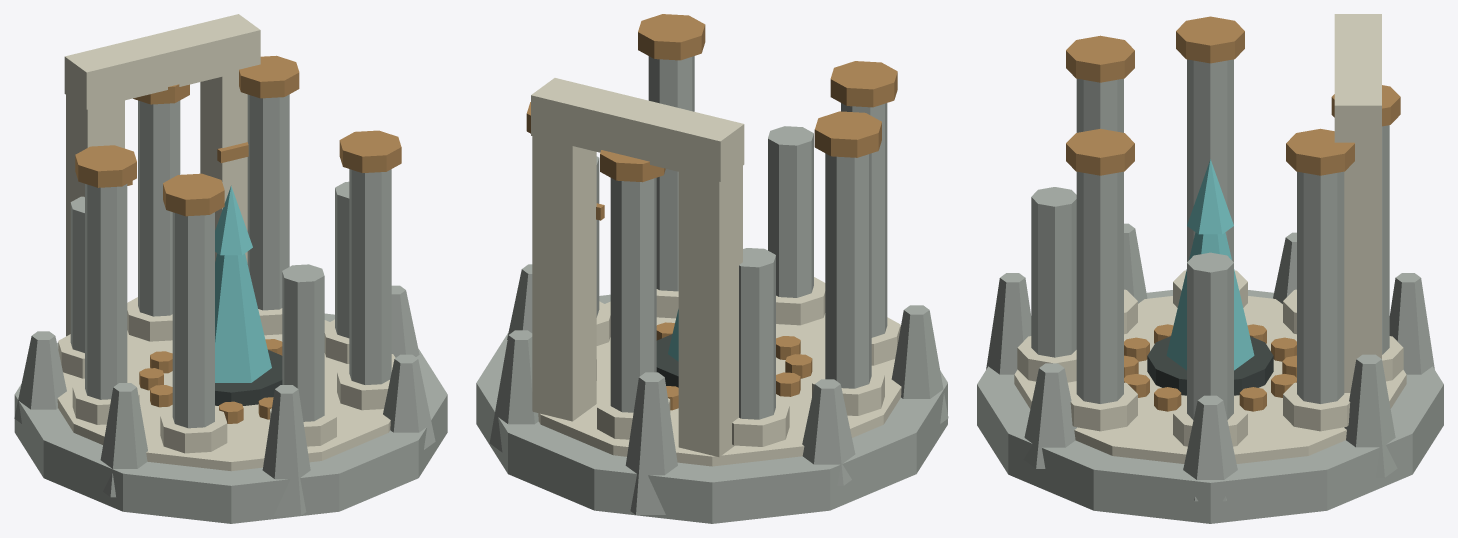
File: SM_ArchiveSanctumV6.fbx
The picture shows the model from 3 angles, left to right: view 1: azimuth 30°, elevation 25°; view 2: azimuth 150°, elevation 25°; view 3: azimuth 270°, elevation 25°; orthographic projection. The views are drawn at different scales.
Visible parts, largest first — view 1: SM_ArchiveSanctumV6; view 2: SM_ArchiveSanctumV6; view 3: SM_ArchiveSanctumV6.
Part boxes in pixels (x1,y1,x2,y2): SM_ArchiveSanctumV6: [14, 14, 447, 523]; SM_ArchiveSanctumV6: [476, 14, 948, 523]; SM_ArchiveSanctumV6: [977, 14, 1443, 523].
Size of the model in its own units: 4.74 by 4.74 by 4.1.
